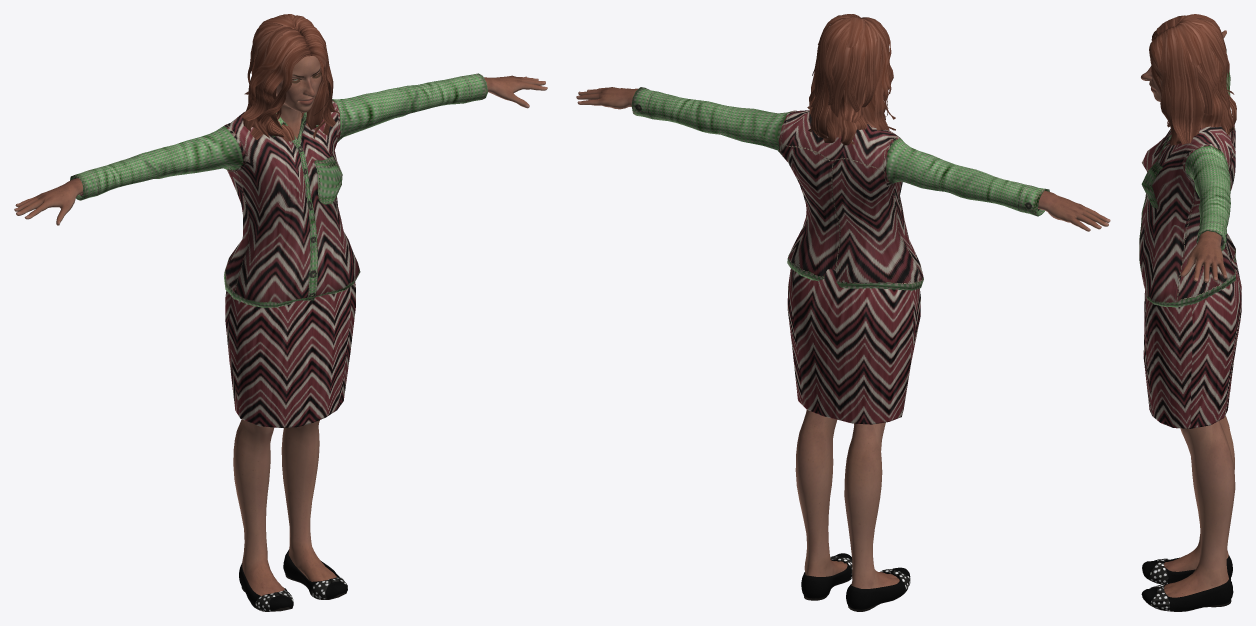
3 views of the same model, side by side, from view 1: azimuth 30°, elevation 25°; view 2: azimuth 150°, elevation 25°; view 3: azimuth 270°, elevation 25° (orthographic).
Parts seen in each view (by area): view 1: Tops, Bottoms, Body, Hair, Shoes; view 2: Tops, Bottoms, Body, Hair, Shoes; view 3: Tops, Bottoms, Body, Hair, Shoes.
Part boxes in pixels (x1,y1,x2,y2): Tops: [70, 73, 487, 307]; Bottoms: [225, 282, 355, 427]; Body: [14, 56, 547, 595]; Hair: [241, 14, 339, 141]; Shoes: [239, 550, 347, 611]; Tops: [631, 87, 1049, 290]; Bottoms: [787, 269, 920, 424]; Body: [576, 87, 1110, 588]; Hair: [807, 14, 895, 145]; Shoes: [801, 553, 910, 611]; Tops: [1139, 48, 1236, 307]; Bottoms: [1143, 255, 1241, 428]; Body: [1141, 30, 1235, 597]; Hair: [1149, 14, 1236, 145]; Shoes: [1141, 555, 1233, 611].
Size of the model in its own units: 180 by 186 by 30.18.
5 materials, 5 textured.
